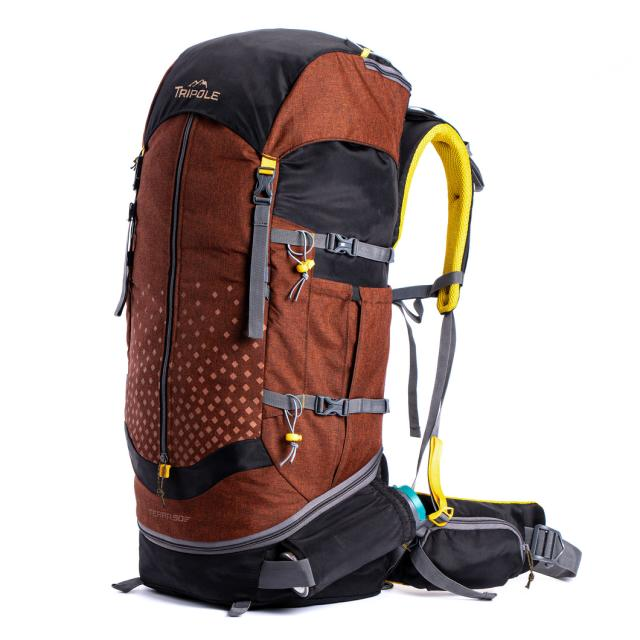backpack: (113, 26, 578, 612)
